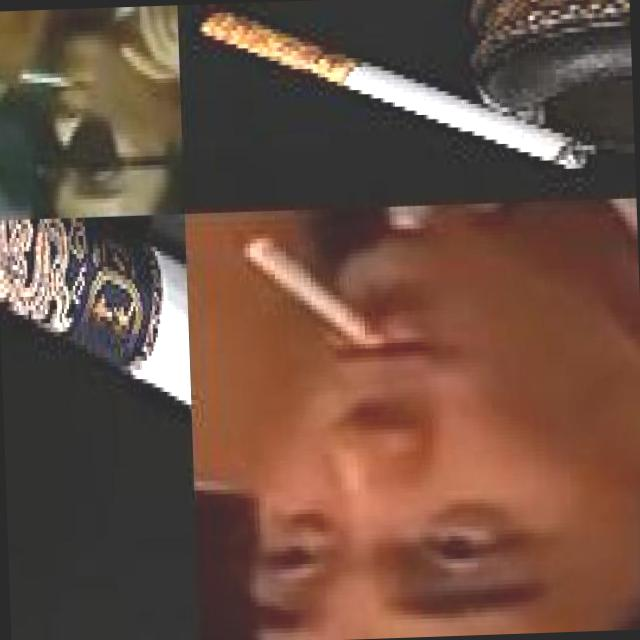smoke: (198, 0, 599, 183), (0, 218, 196, 569), (0, 218, 191, 433), (243, 232, 397, 364), (16, 68, 84, 92)
